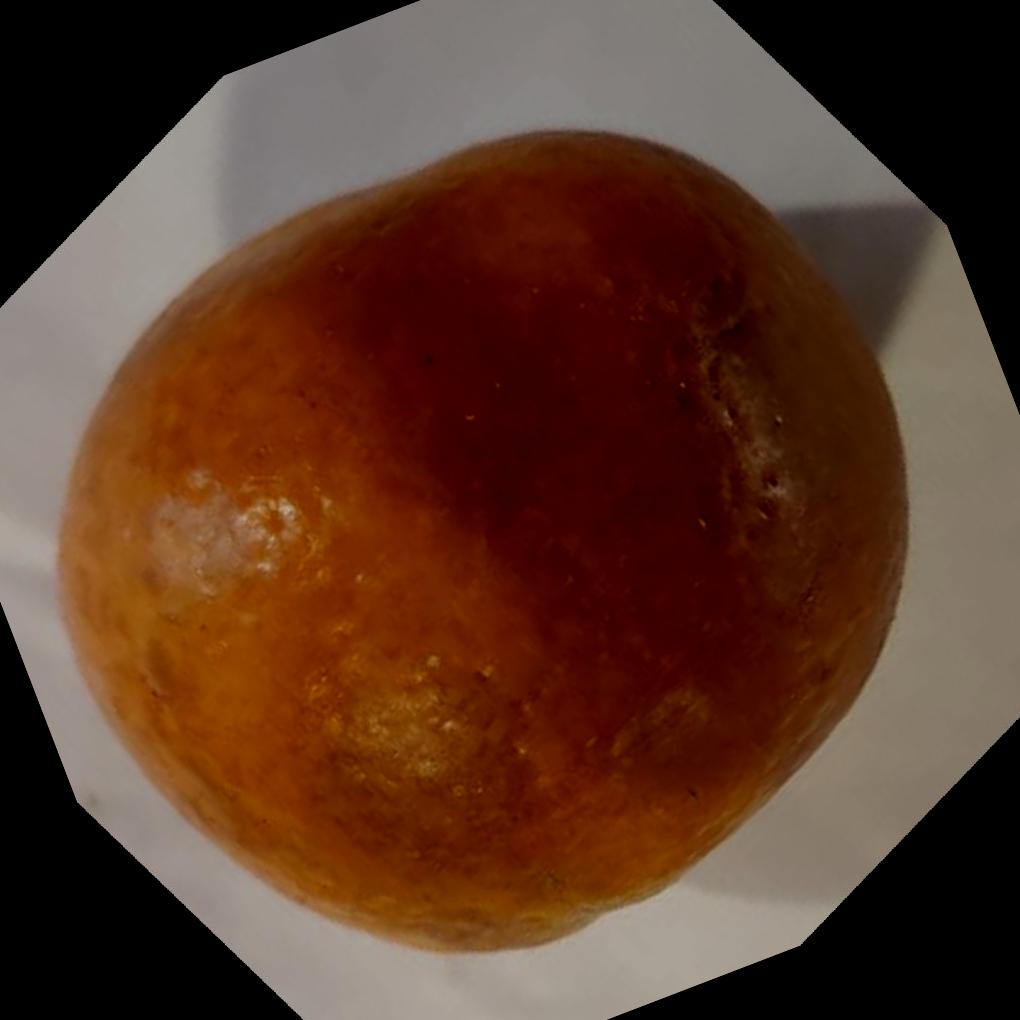FreshOrange: (52, 123, 910, 953)
